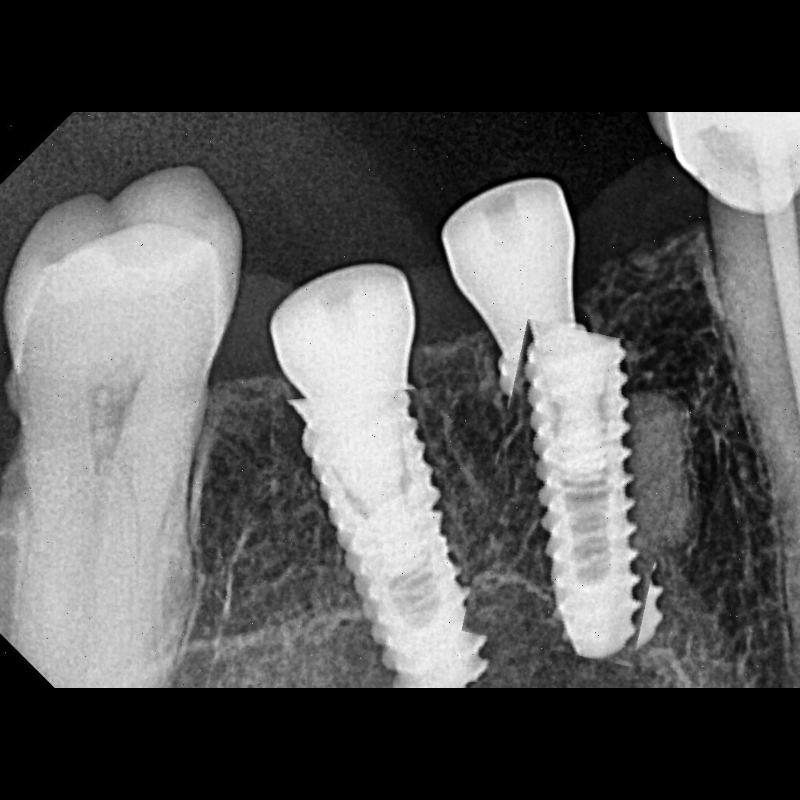osstem: (478, 328, 682, 660), (289, 388, 495, 688)
